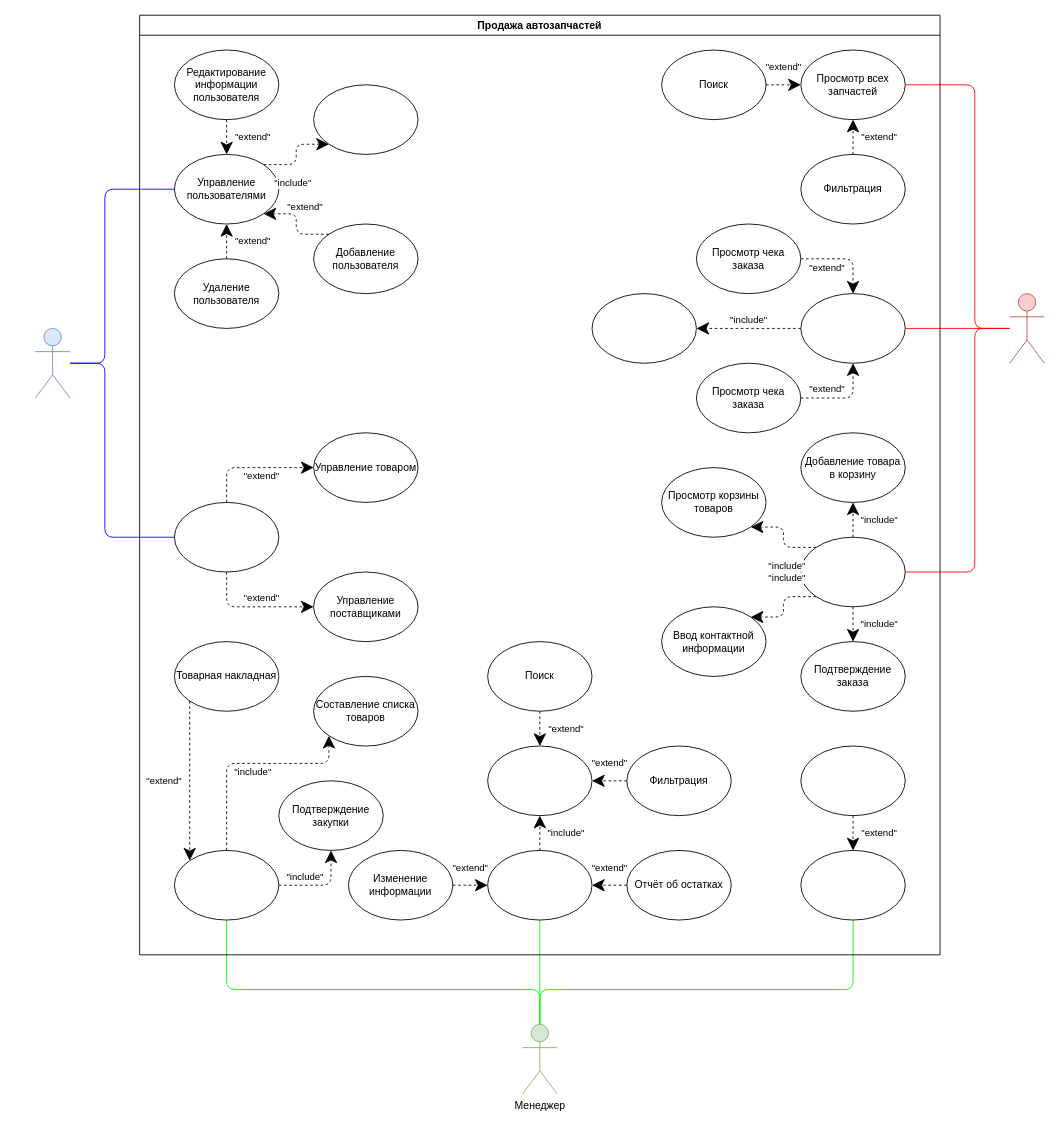
The diagram is 1060 pixels wide and 1128 high, and some of its shapes have lost their labels. The shapes that lost their labels are listed below. From the top down, each one's centre as x and y in pixels, then its label:
At (365,119): "Просмотр информации о пользователе".
At (643,328): "Просмотр информации о заказе".
At (852,328): "Просмотр истории заказов".
At (1026,328): "Клиент".
At (52,363): "Администратор".
At (226,537): "Управление системой".
At (852,571): "Оформление заказа".
At (539,780): "Просмотр информации о товаре на складах".
At (852,780): "Отчёт о продаже".
At (226,885): "Оформление закупок у поставщиков".
At (539,885): "Складской учёт".
At (852,885): "Оформление продаж для клиентов".
